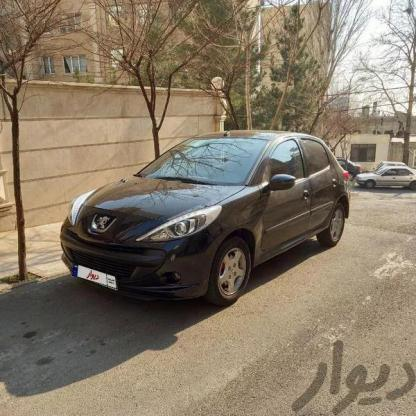Car: (42, 132, 356, 300), (358, 162, 416, 200)
